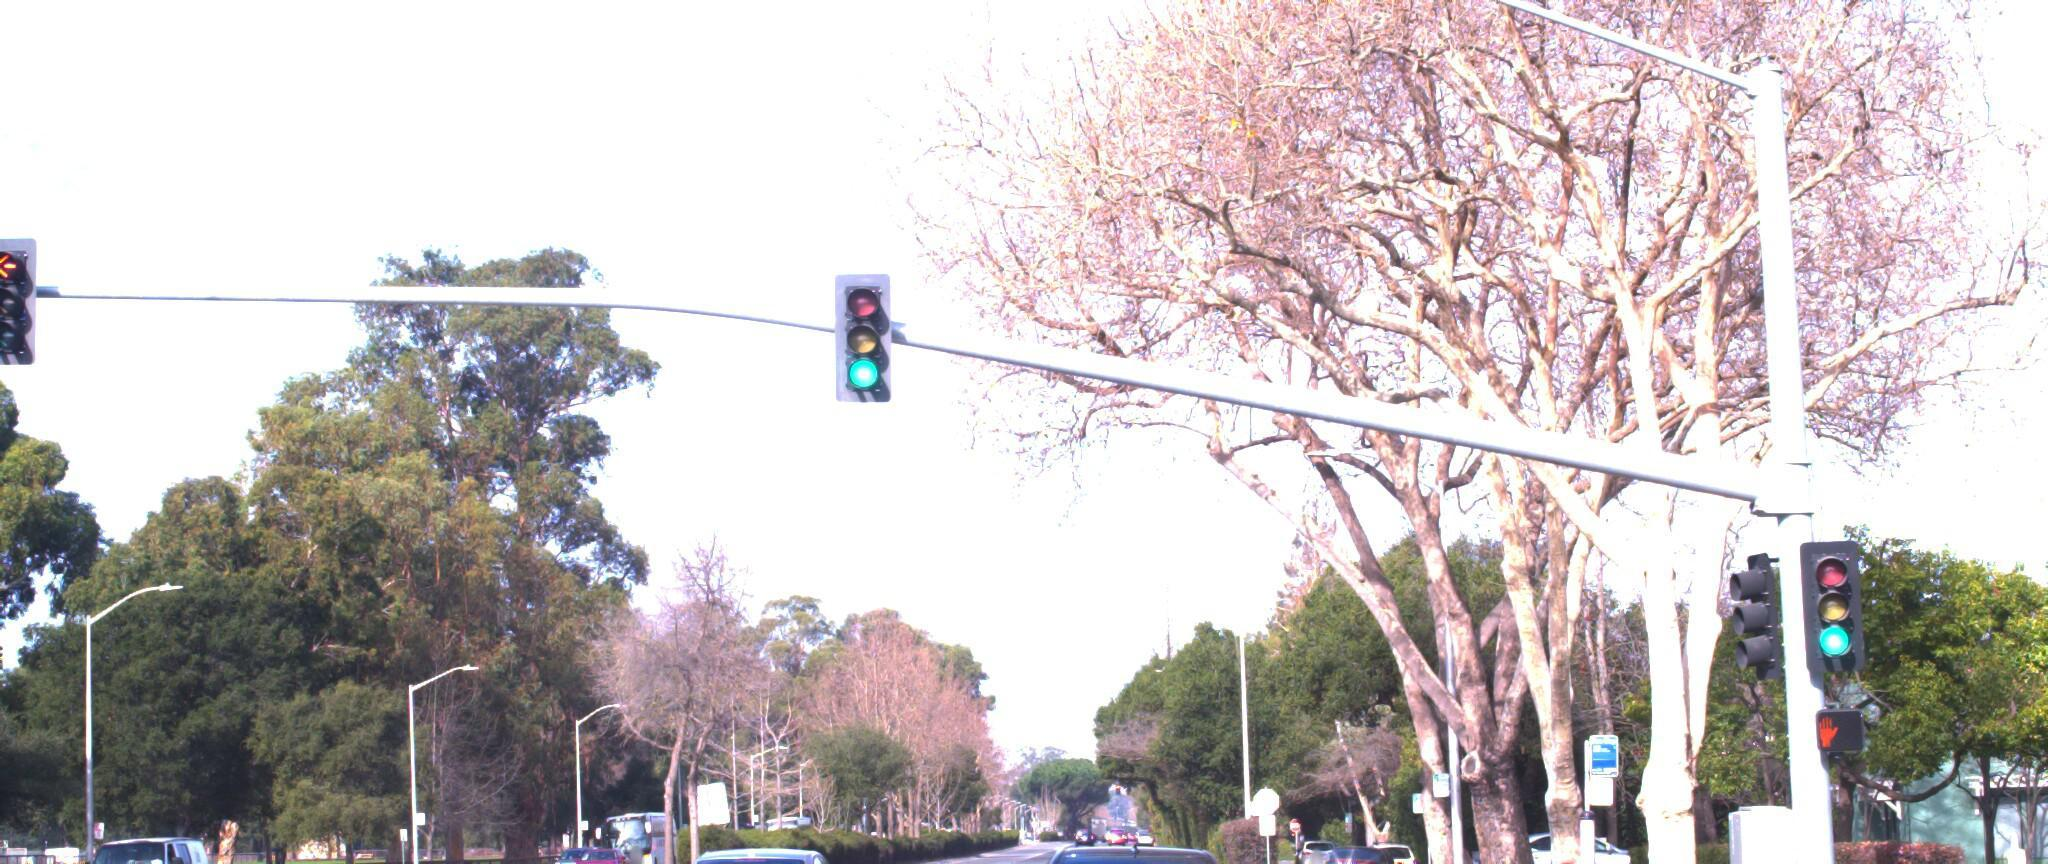car: (1010, 820, 1268, 864), (73, 818, 223, 864), (662, 831, 872, 864), (1323, 826, 1418, 864)
